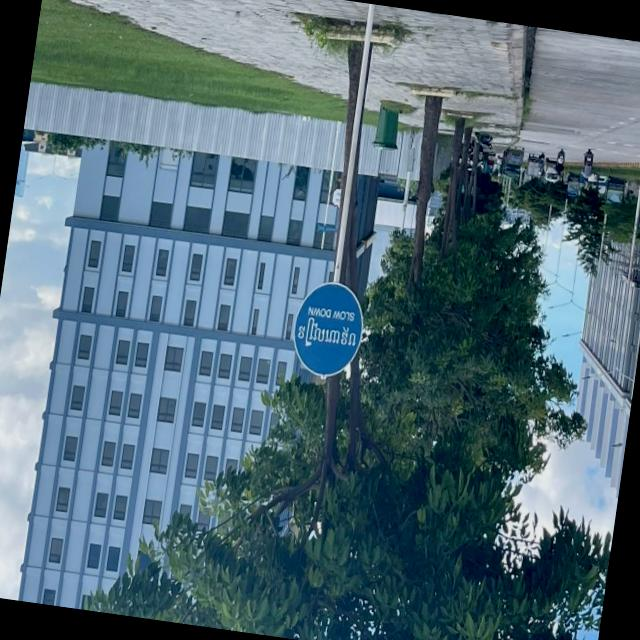Yolov11kh: (295, 313, 357, 352)
